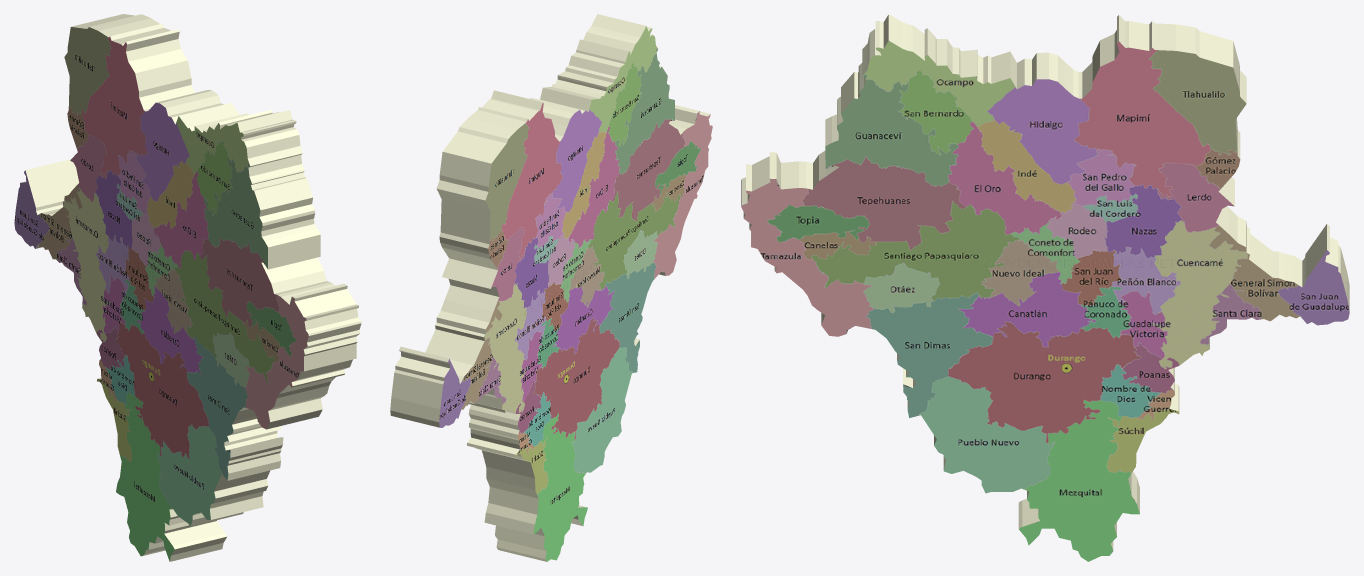
File: durango.glb
The picture shows the model from 3 angles, left to right: view 1: azimuth 30°, elevation 25°; view 2: azimuth 150°, elevation 25°; view 3: azimuth 270°, elevation 25°; orthographic projection. The views are drawn at different scales.
Parts seen in each view (by area): view 1: Plano; view 2: Plano; view 3: Plano.
Boxes of the visible parts, left/top/right/bottom form: Plano: left=14, top=14, right=361, bottom=561; Plano: left=390, top=14, right=712, bottom=561; Plano: left=741, top=14, right=1349, bottom=561.
Size of the model in its own units: 0.1246 by 1.14 by 1.21.
Materials: 1 (1 with a texture image).
